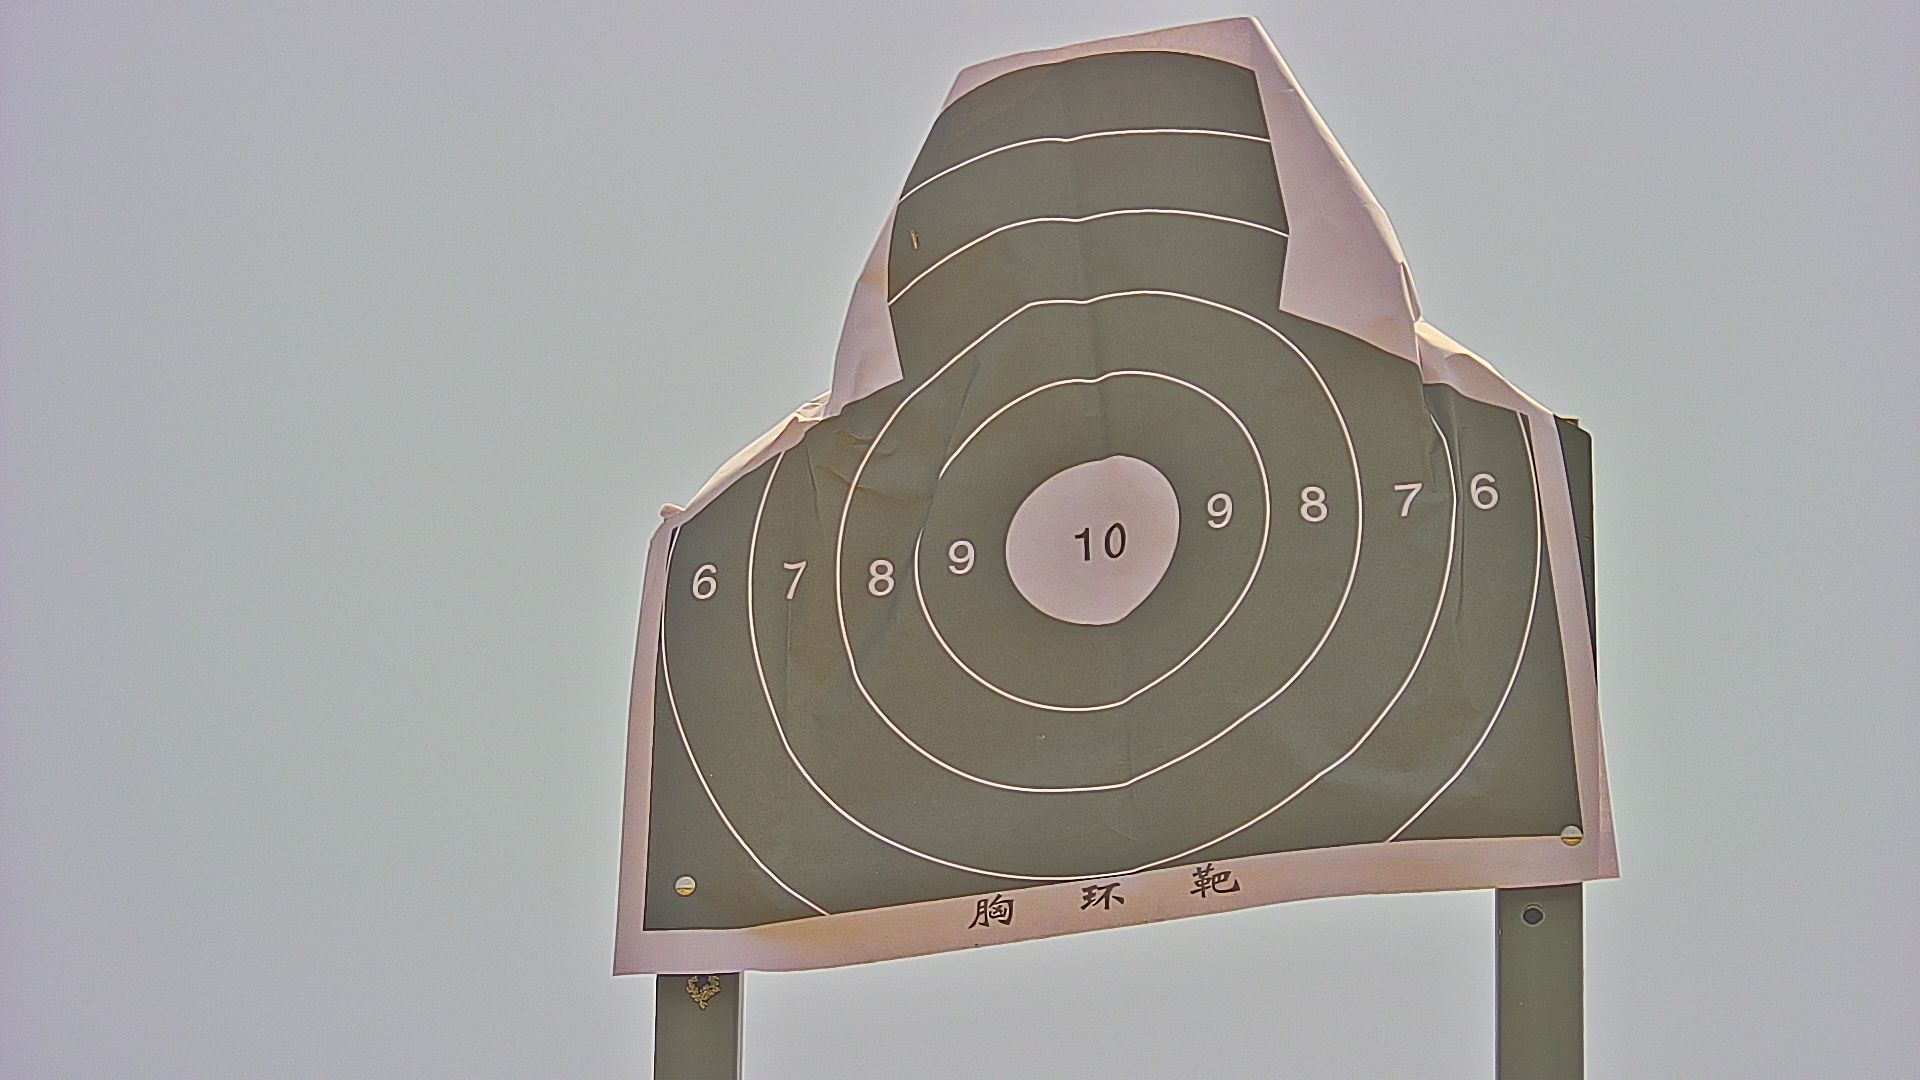kernel: (1097, 543, 1098, 549)
target: (641, 54, 1586, 934)
ten: (1000, 448, 1182, 629)
